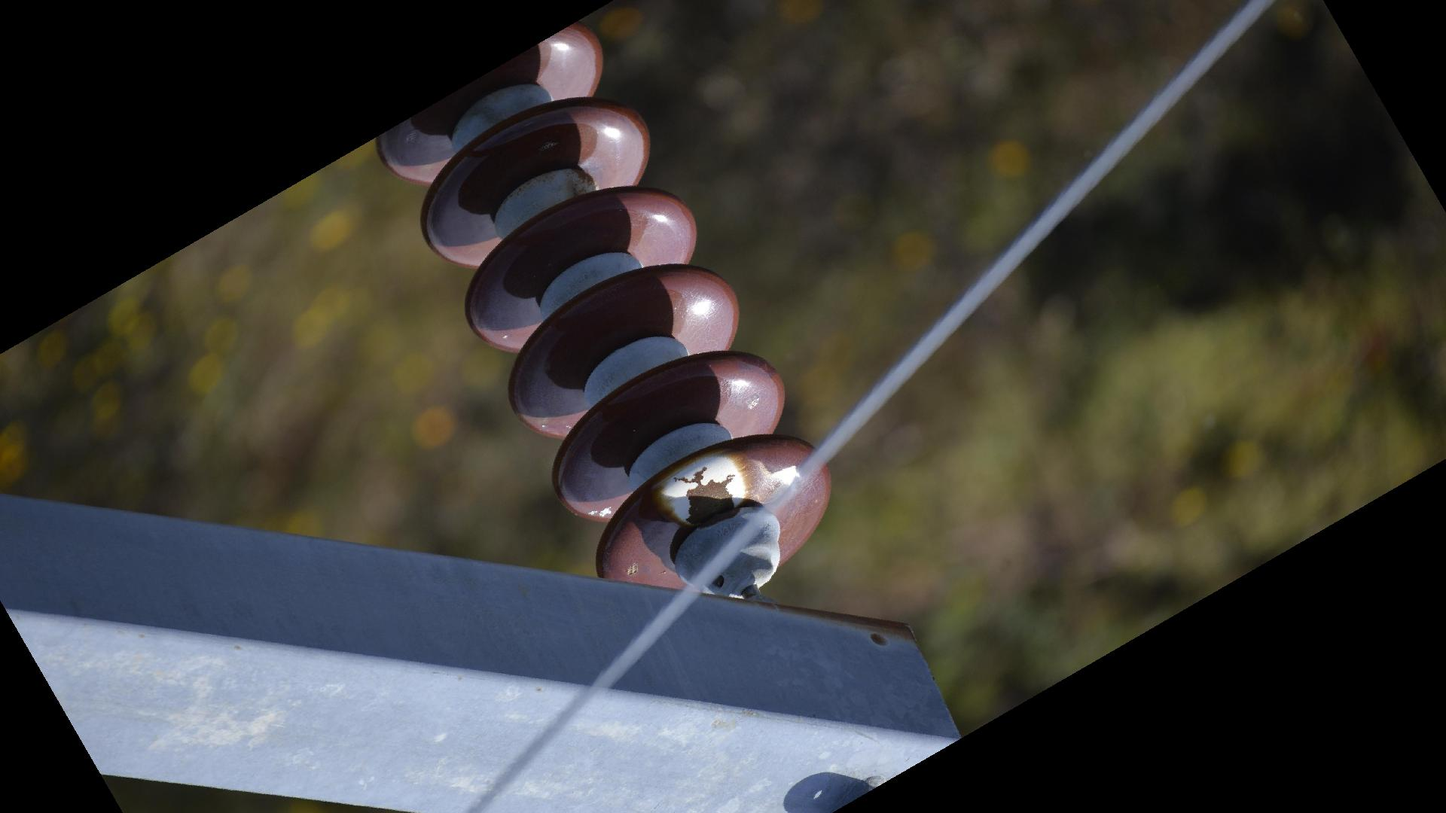insulator: (368, 12, 840, 601)
insulator_flashover: (654, 449, 752, 531)
